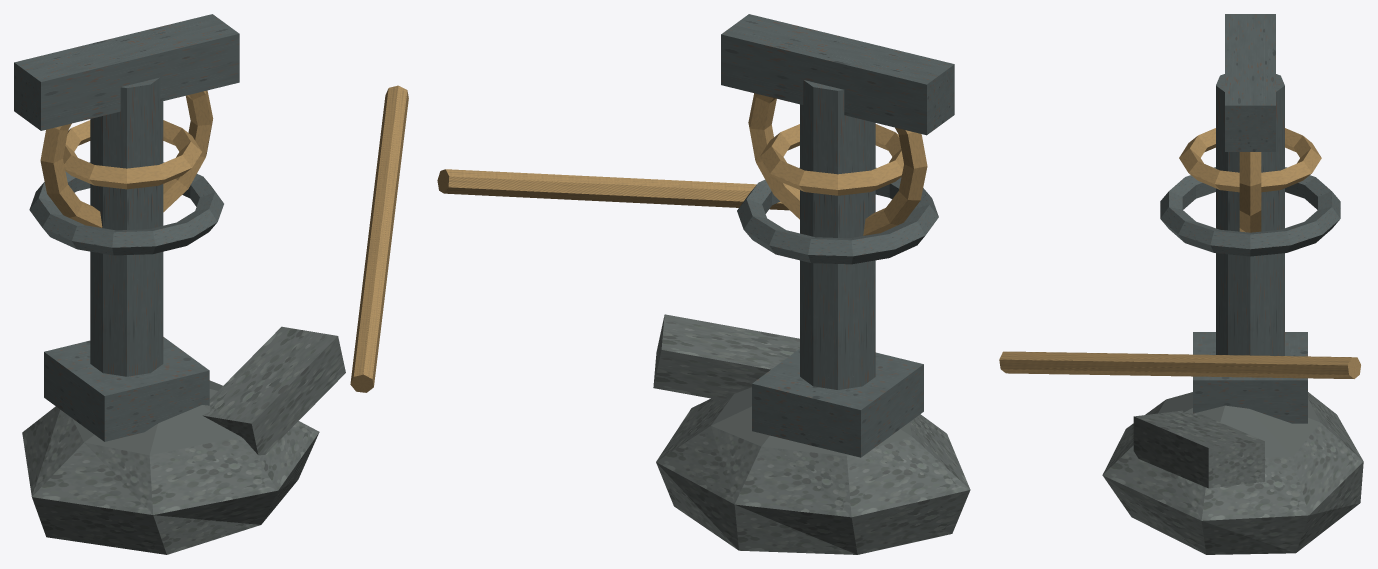
Rendered from pr-019_anchor_point_peg__active.obj.
The picture shows the model from 3 angles, left to right: view 1: azimuth 30°, elevation 25°; view 2: azimuth 150°, elevation 25°; view 3: azimuth 270°, elevation 25°; orthographic projection. The views are drawn at different scales.
Visible parts, largest first — view 1: pr-019_anchor_point_peg__active; view 2: pr-019_anchor_point_peg__active; view 3: pr-019_anchor_point_peg__active.
Part boxes in pixels (<box>): pr-019_anchor_point_peg__active: <box>14,14,408,554</box>; pr-019_anchor_point_peg__active: <box>437,14,970,554</box>; pr-019_anchor_point_peg__active: <box>999,14,1363,554</box>.
Bounding box in the file's own units: 0.7634 × 0.76 × 0.5712.
3 materials, 3 textured.
